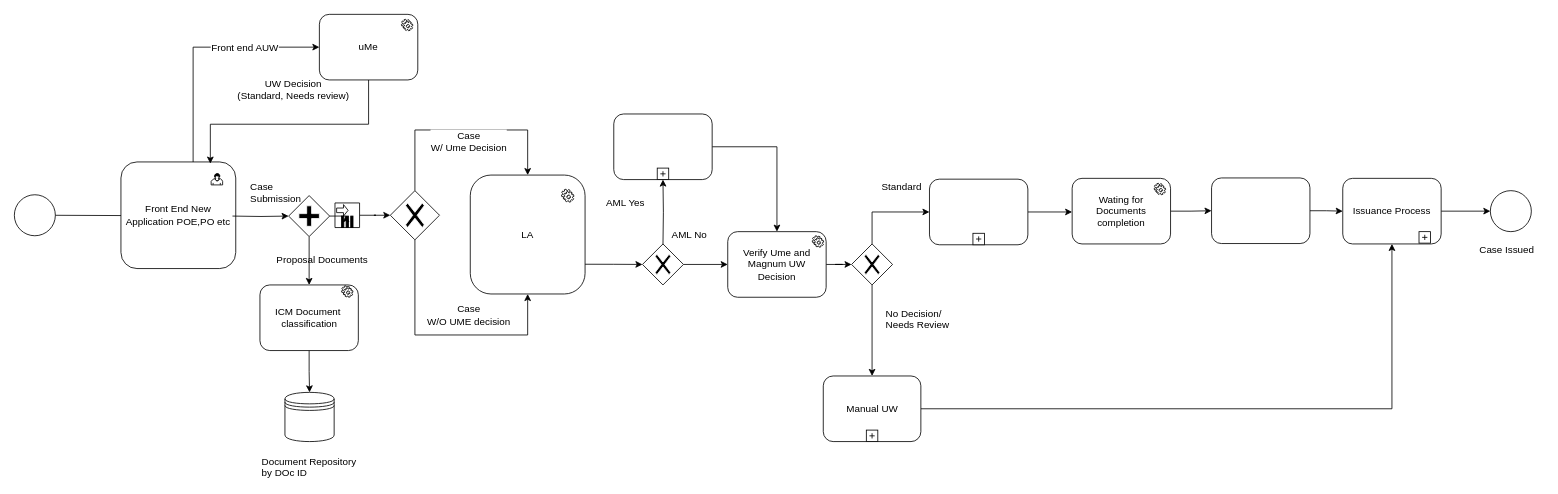
Image size: 1558x494. Some labels were removed from this diagram. The centre of each missing label's shape, as x and y in pixels:
"CDD/AML review" goes at point (662, 146).
"Check Sub Doc" goes at point (978, 211).
"CM" goes at point (309, 417).
"Perform Auto UW Auto input decision as ASTD" goes at point (1260, 210).
